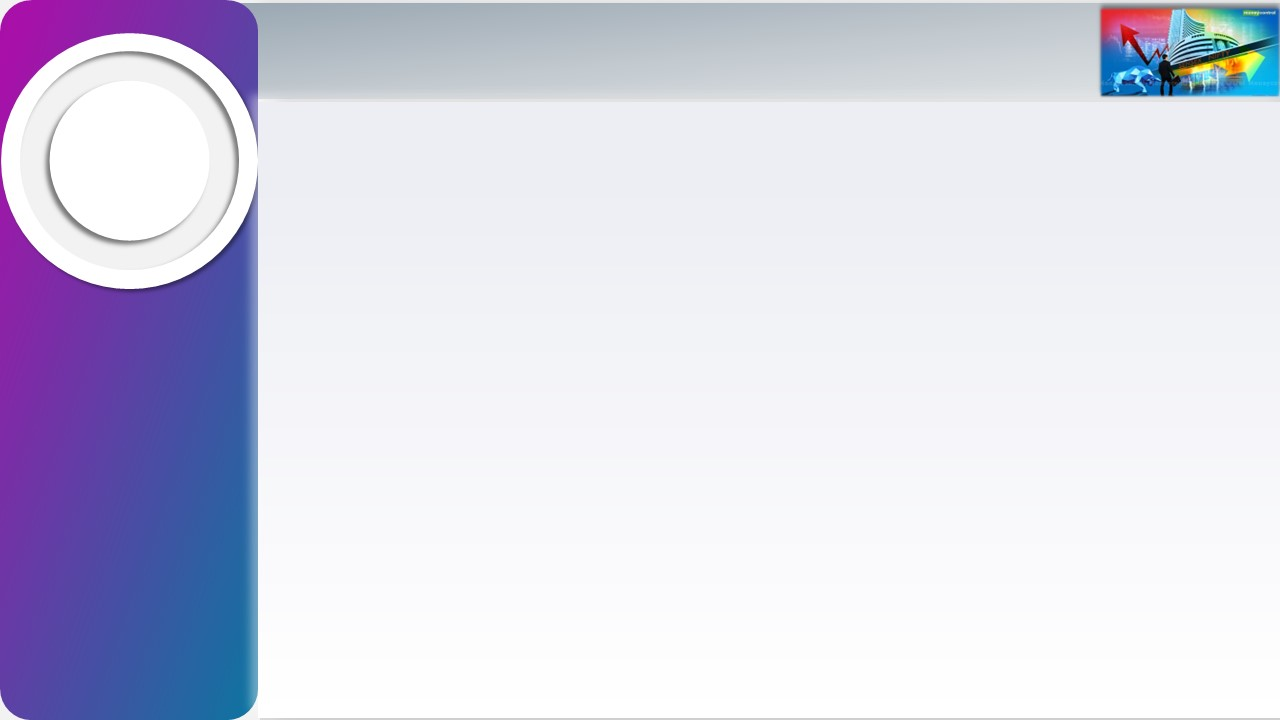

The page's visual inventory and layout, read from the dashboard file:
{"tool":"powerbi","page":{"name":"Info","canvas":[1280,720],"ordinal":4},"visuals":[{"type":"actionButton","box":[12.5,463.4,220.3,47.8],"z":0},{"type":"actionButton","box":[12.5,134,220.3,50.9],"z":1000},{"type":"actionButton","box":[12.5,302.3,220.3,50.9],"z":2000},{"type":"actionButton","box":[12.5,216.1,220.3,55.1],"z":3000},{"type":"actionButton","box":[12.5,384.4,220.3,47.8],"z":4000},{"type":"textbox","box":[278.4,23.9,371.9,55.1],"z":5000},{"type":"image","box":[155.8,463.4,64.4,54],"z":6000},{"type":"textbox","box":[270.1,102.9,992.2,579.7],"z":7000}]}

Visuals, with their boxes in screenshot pixels (x1, y1, x2, y2), scaled from the page's 1280x720 canvas onto the 1280x720 screenshot:
actionButton: box=[12, 463, 233, 511]
actionButton: box=[12, 134, 233, 185]
actionButton: box=[12, 302, 233, 353]
actionButton: box=[12, 216, 233, 271]
actionButton: box=[12, 384, 233, 432]
textbox: box=[278, 24, 650, 79]
image: box=[156, 463, 220, 517]
textbox: box=[270, 103, 1262, 683]
